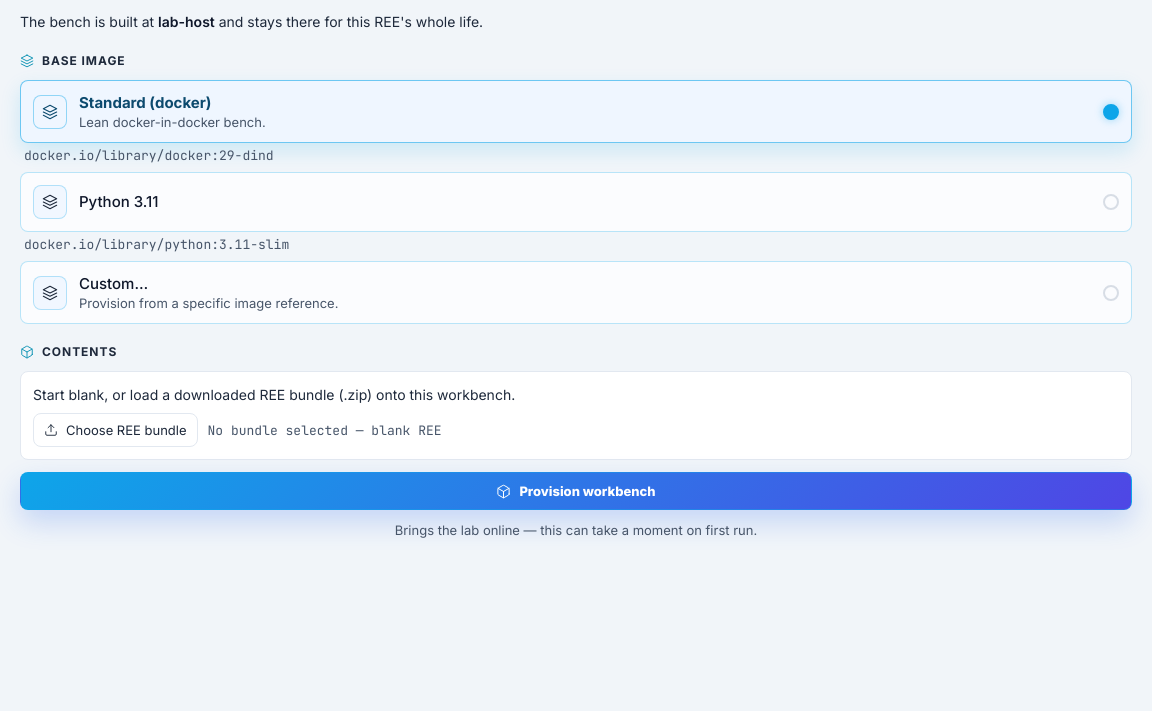
Test: WorkbenchSetupDrawer › provisions a workbench on the chosen lab and shows its streamed log
Expected: the text "lab-host" is shown, x1=158 y1=13 x2=215 y2=30
Click the button "Provision workbench". click: click(576, 491)
box: x1=20 y1=472 x2=1132 y2=510
(page scrolled)
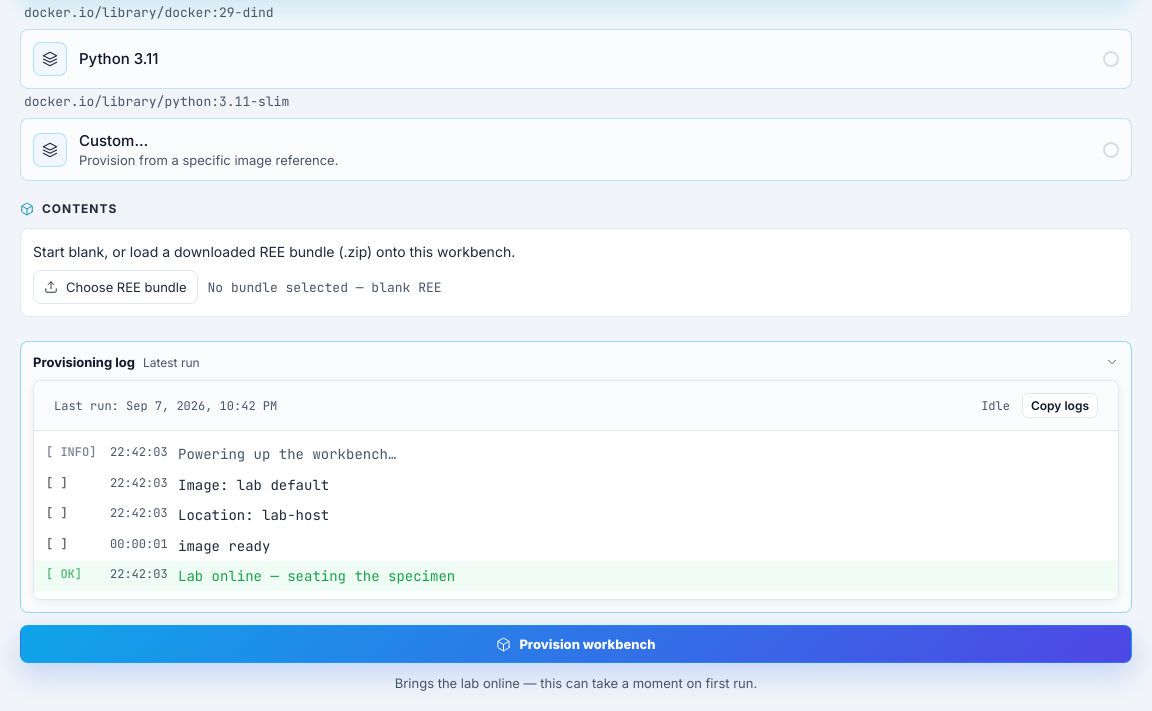
Now the text "image ready" is shown, box x1=178 y1=535 x2=270 y2=557
Now the text "Lab online — seating the specimen" is shown, box x1=178 y1=565 x2=455 y2=587
